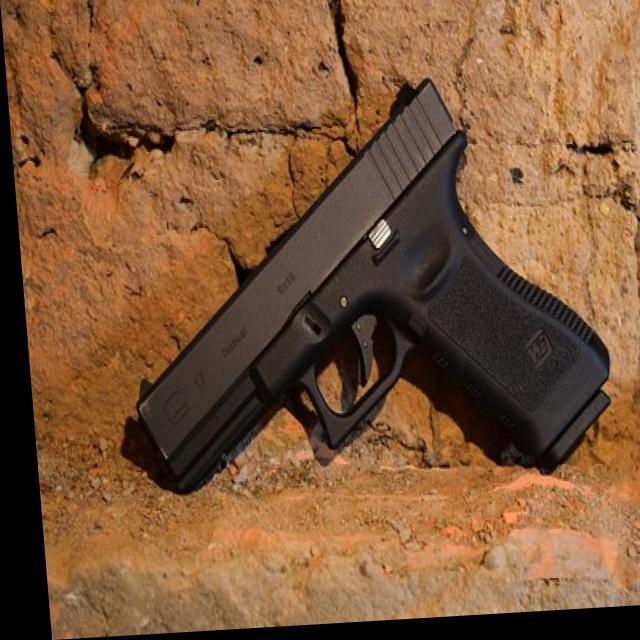handgun: (109, 69, 640, 520)
